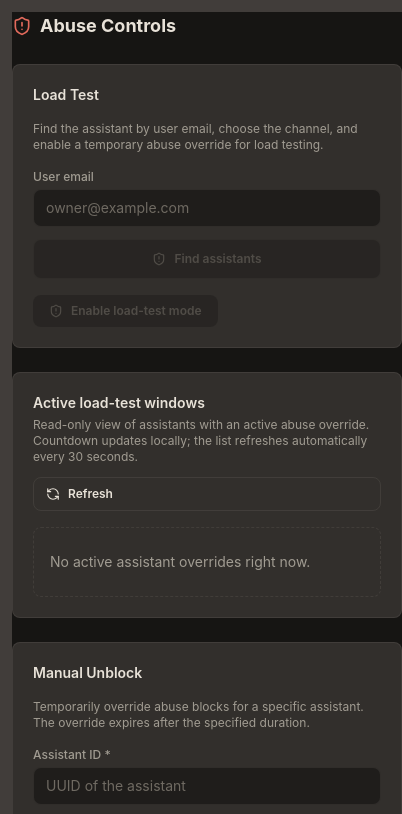
Test: AdminAbusePage › shows a clear message when no assistants are found
Type "missing@example.com" into the field labelled "User email" at (207, 208), box [33,189,381,227]
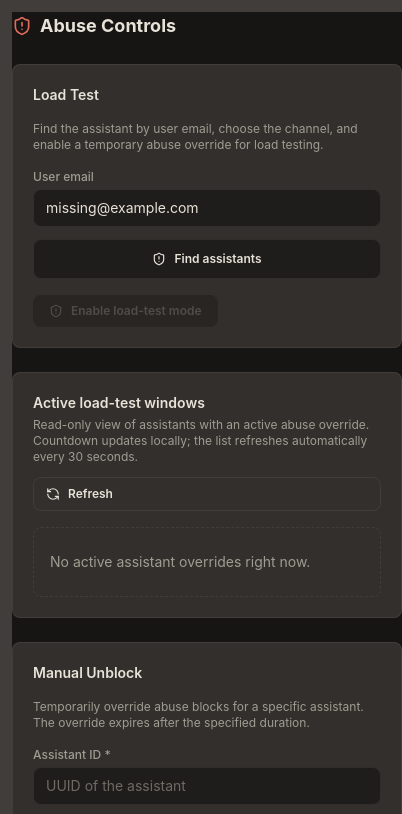
Click the button "Find assistants" at (207, 259), box [33,239,381,279]
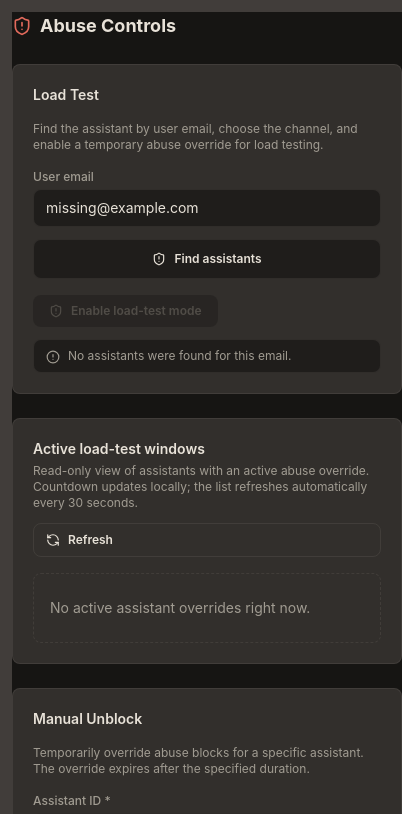
Result: the text "No assistants were found for this email." is shown at [33,339,381,373]
